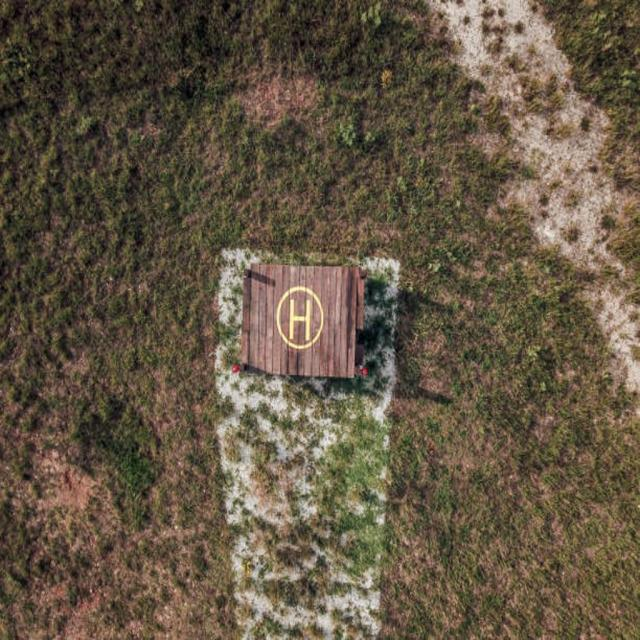helipad: (274, 285, 324, 349)
